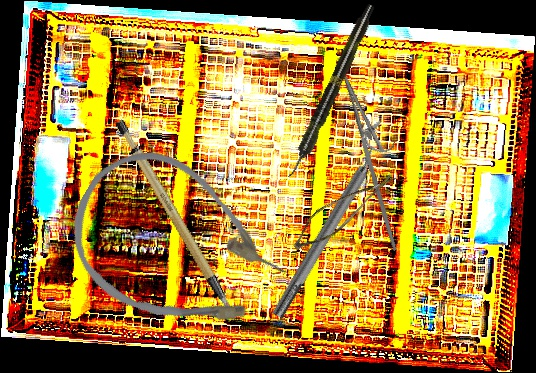Cannula: (45, 125, 309, 370)
Fixation Ring: (261, 126, 399, 324)
Handpiece: (283, 1, 379, 182)
Micro Scissor: (288, 152, 397, 266)
Needle Holder: (323, 70, 430, 252)
Scalpel Handle: (111, 106, 240, 338)
